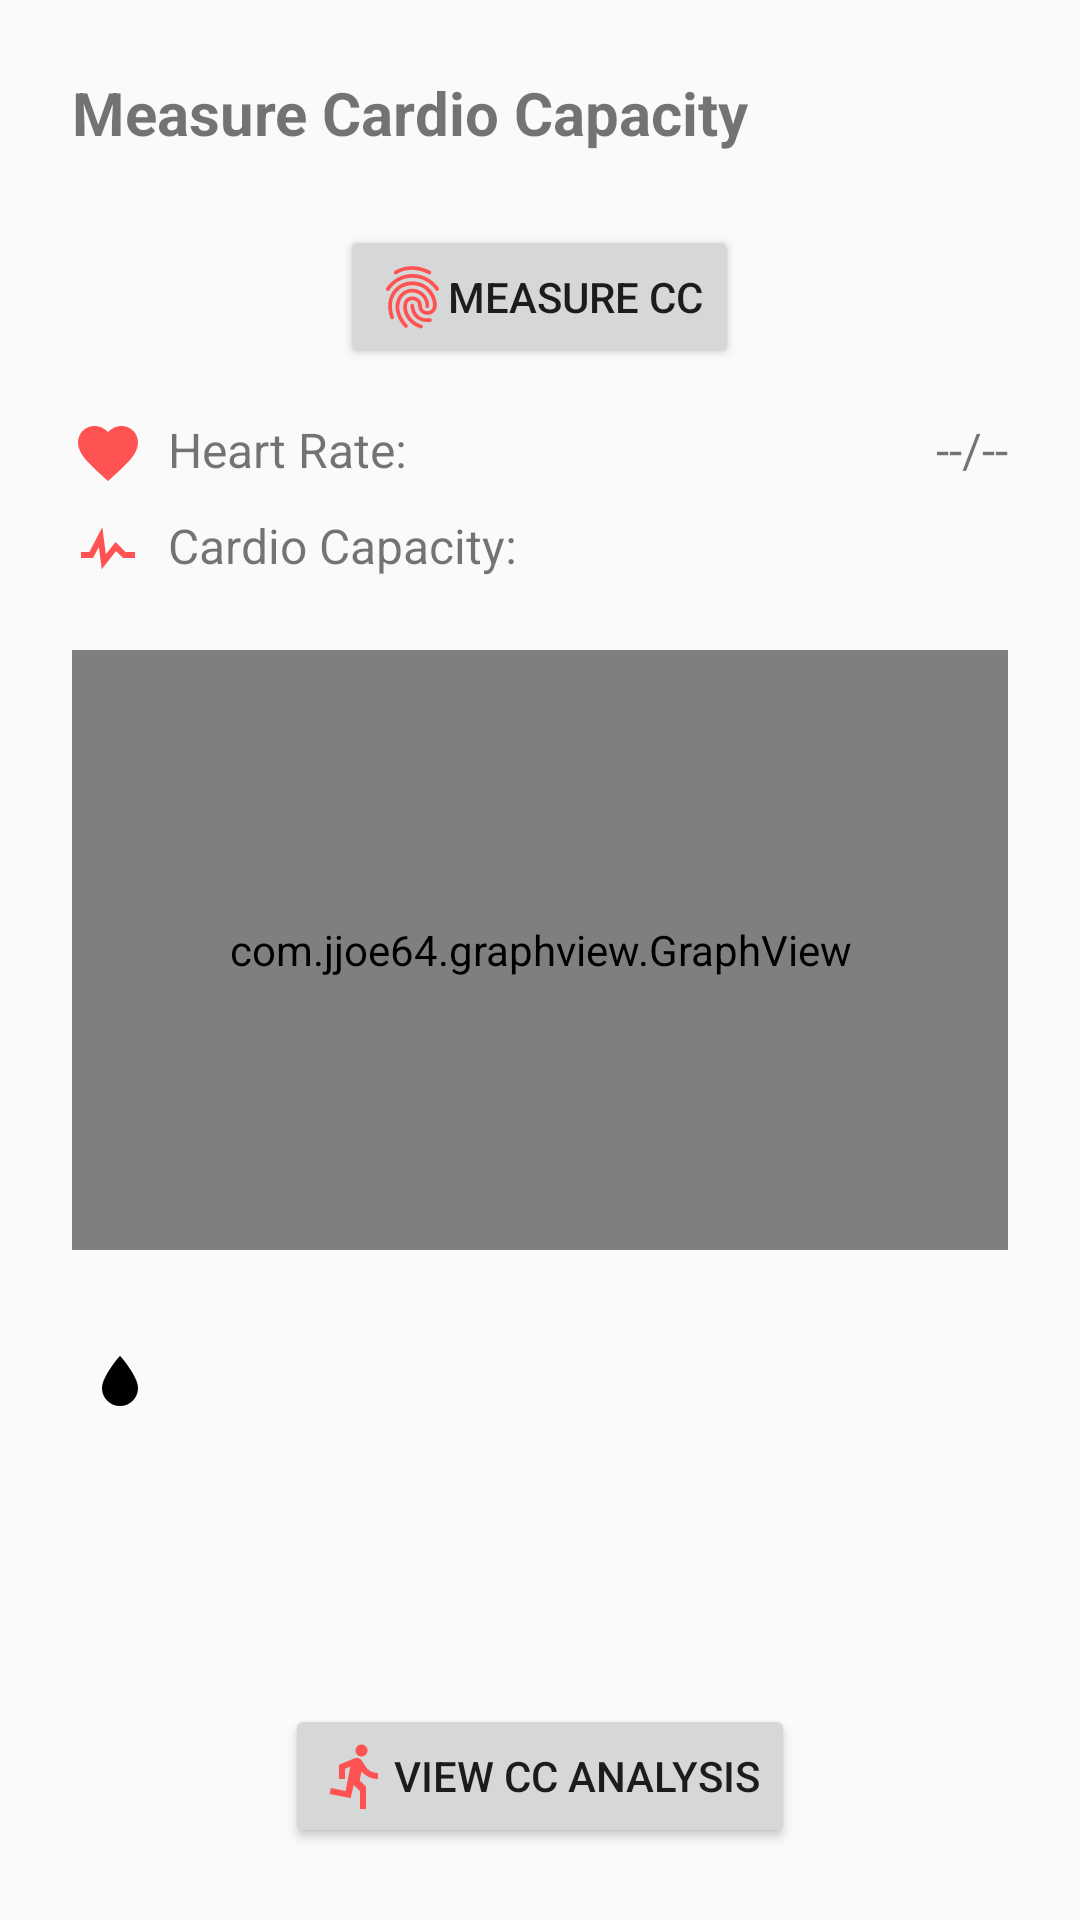

Where icons sit on this 1080 x 1920 app screen, as [x1,y1,x2,y2]:
This is a heart icon: [78,426,138,481]
This is a pulse icon: [81,527,135,569]
